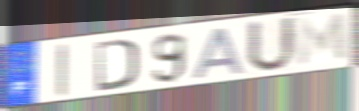9: (150, 32, 188, 84)
A: (190, 25, 248, 81)
D: (94, 37, 141, 93)
I: (55, 42, 70, 99)
M: (295, 11, 350, 69)
U: (245, 15, 299, 75)
